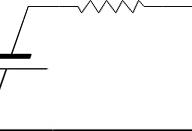resistor: (70, 0, 154, 18)
